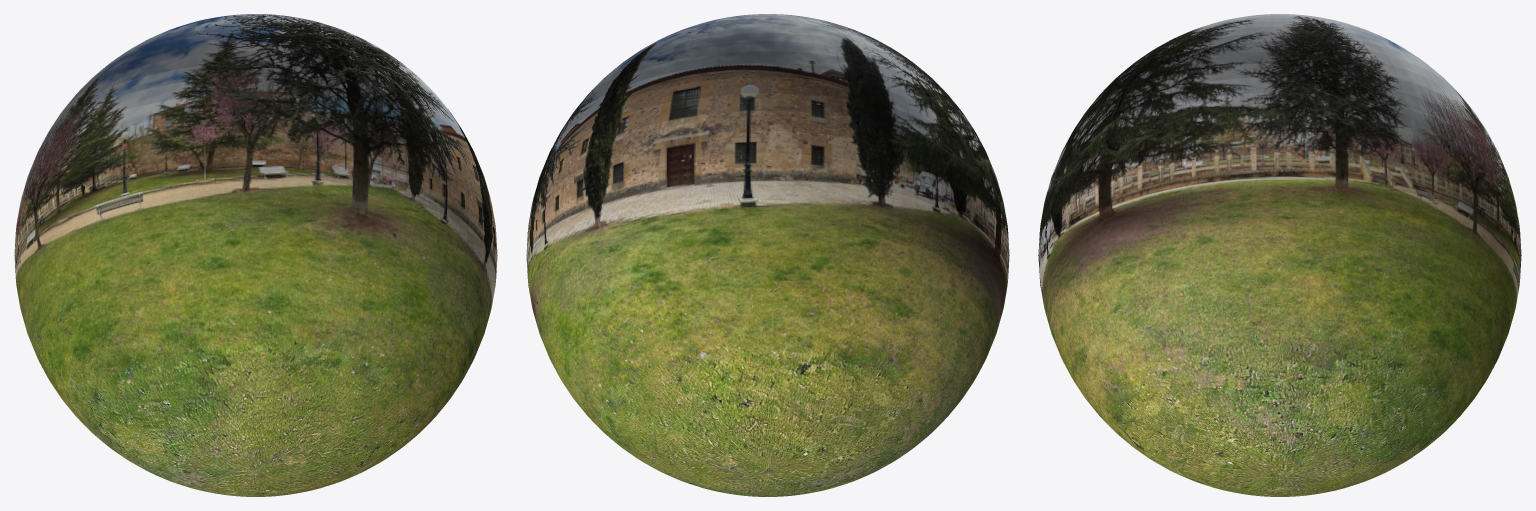
The model's file is building_BH_360.glb.
The picture shows the model from 3 angles, left to right: view 1: azimuth 30°, elevation 25°; view 2: azimuth 150°, elevation 25°; view 3: azimuth 270°, elevation 25°; orthographic projection.
Size of the model in its own units: 2 by 2 by 2.
Materials: 1 (1 with a texture image).
